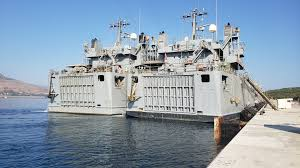Ship: (49, 24, 263, 120)
